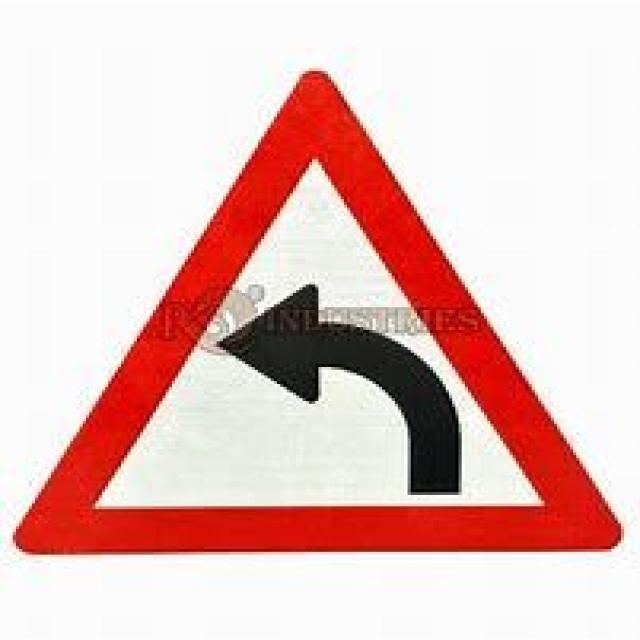LEFT_HAND_CURVE: (9, 68, 623, 557)
